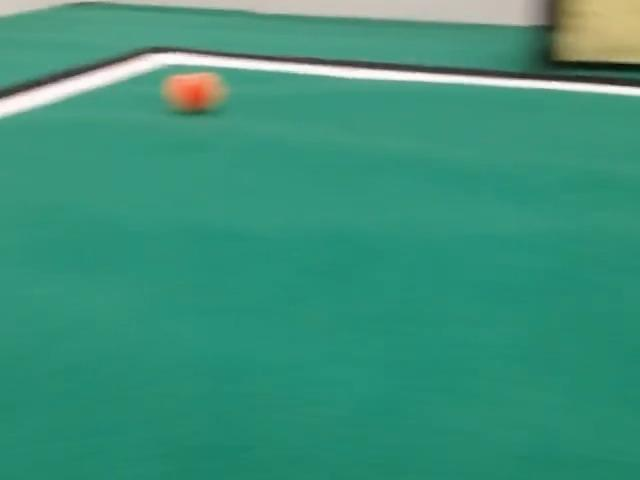Ball: (162, 72, 226, 112)
